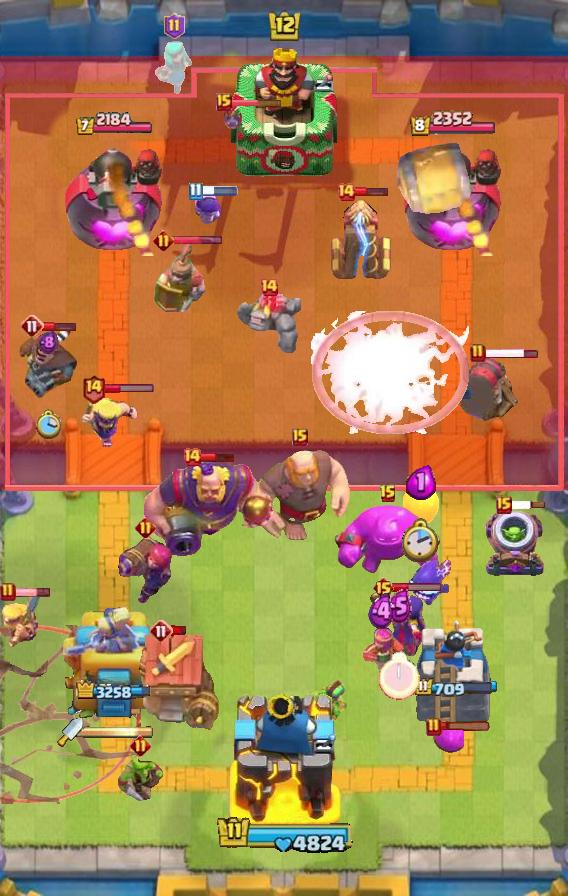arrows: (80, 391, 140, 449), (0, 594, 40, 648)
axe: (369, 588, 429, 656)
balloon: (247, 446, 353, 544)
bar: (60, 607, 168, 731)
barbarian-barrel: (221, 107, 245, 131)
barbarian-evolution: (311, 311, 469, 434)
cannon: (357, 627, 407, 673)
clock: (212, 816, 356, 857)
clone: (333, 503, 443, 577)
dirt: (392, 137, 476, 221)
earthquake: (152, 244, 206, 314)
electro-spirit: (406, 464, 436, 499), (368, 594, 396, 631), (386, 589, 412, 623), (38, 329, 58, 354)
elixir: (379, 652, 420, 700), (402, 518, 440, 564), (35, 408, 61, 439)
emote: (484, 347, 539, 360), (392, 582, 443, 594), (171, 234, 223, 245), (440, 721, 492, 732), (104, 383, 155, 394), (229, 97, 283, 106), (13, 586, 51, 597), (200, 453, 236, 464), (355, 187, 390, 198), (43, 320, 78, 331), (200, 186, 238, 196), (510, 500, 546, 510), (171, 624, 188, 636)
giant-snowball: (306, 679, 354, 723)
goblin: (194, 193, 221, 227)
goblin-brawler: (326, 196, 394, 282)
goblin-cage: (483, 509, 547, 579)
guard: (0, 624, 140, 804)
hog: (401, 482, 441, 526)
king-tower: (226, 688, 342, 826), (231, 43, 337, 181)
king-tower-bar: (83, 725, 153, 739)
lightning: (140, 460, 278, 556)
mega-minion: (116, 528, 174, 606)
miner: (432, 723, 464, 753)
phoenix-small: (17, 326, 79, 398)
queen-tower: (409, 616, 497, 731)
royal-giant-evolution: (453, 354, 521, 424)
selected: (409, 110, 497, 138), (74, 112, 154, 137), (414, 677, 495, 699), (75, 680, 152, 703)
sparky: (133, 634, 219, 732)
spear-goblin: (409, 560, 451, 606)
text: (82, 373, 106, 404), (20, 314, 44, 338), (149, 619, 173, 643), (163, 13, 185, 39), (372, 576, 395, 600), (153, 229, 174, 251), (135, 518, 156, 539), (130, 735, 151, 756), (336, 182, 356, 202), (259, 277, 279, 297), (182, 447, 202, 467), (379, 484, 397, 504), (470, 343, 486, 363), (0, 582, 16, 602), (426, 717, 442, 737), (216, 93, 232, 111), (292, 428, 308, 446), (496, 496, 512, 514), (188, 183, 203, 202)
tower-bar: (63, 138, 164, 256), (404, 138, 505, 256)
valkyrie-evolution: (236, 292, 302, 354)
witch: (154, 41, 194, 95)
zap: (116, 756, 164, 802)
